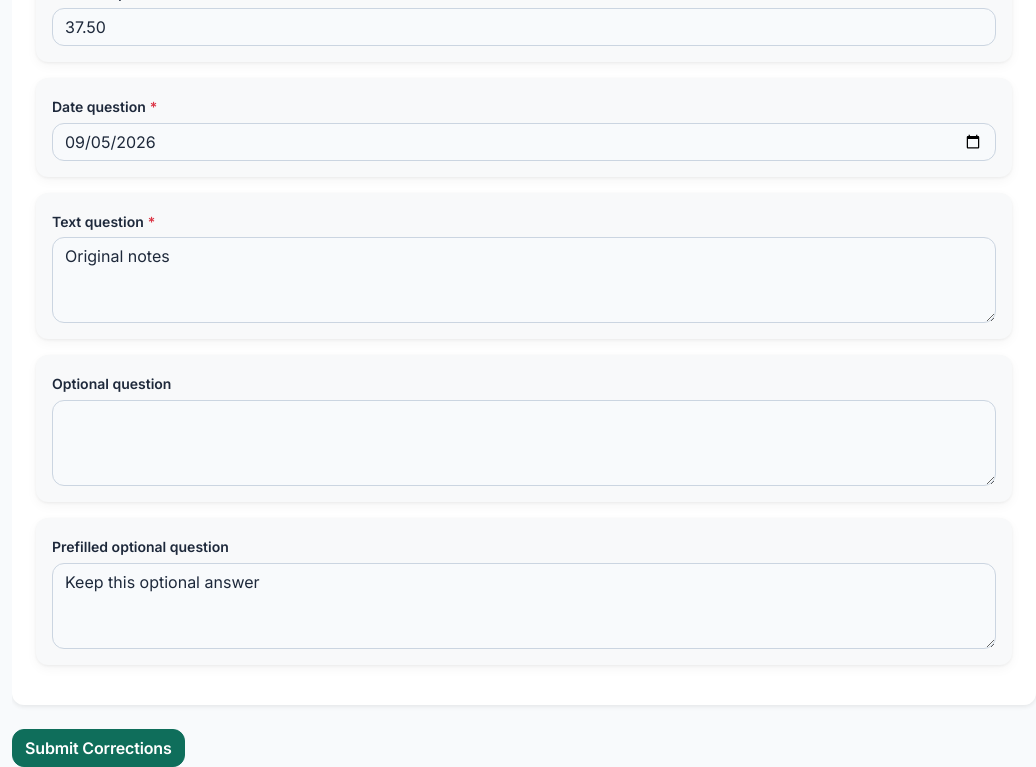
Test: CitizenScreeningCorrectionPage › shows a safe success state and does not render another correction form
(page scrolled)
Step 1. Click the button "Submit Corrections" → (98, 748), box left=12, top=728, right=185, bottom=766
(page scrolled)
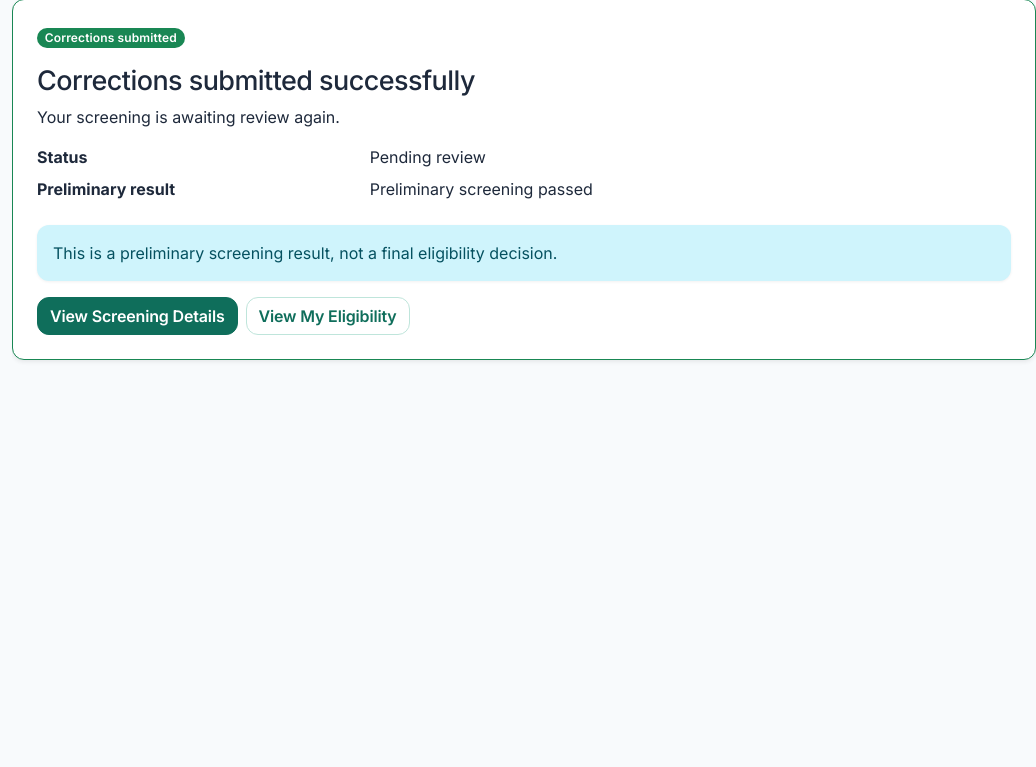
expect the heading "Corrections submitted successfully" is shown: met, box left=37, top=64, right=475, bottom=96
expect the text "Your screening is awaiting review again." is shown: met, box left=37, top=106, right=340, bottom=126
expect the text "Pending review" is shown: met, box left=370, top=146, right=486, bottom=166
